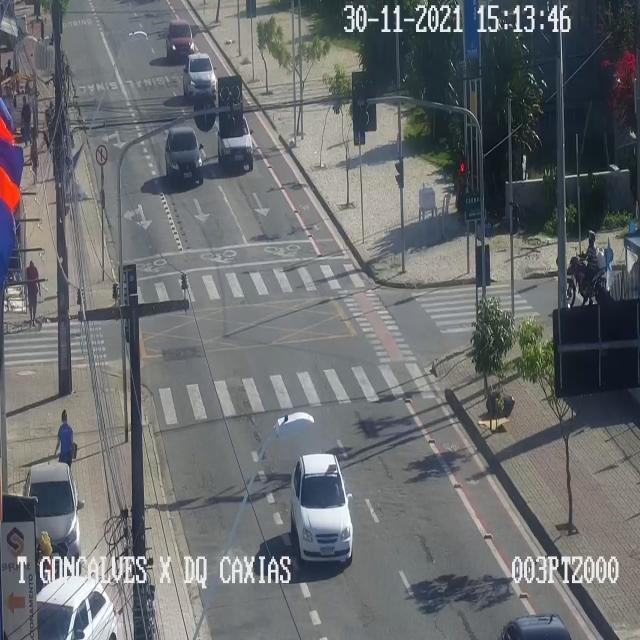Car: (290, 452, 352, 561), (24, 462, 80, 572), (36, 575, 116, 639), (165, 126, 202, 182), (217, 114, 253, 169), (183, 53, 215, 99), (166, 20, 194, 58)
Motorcycle: (566, 230, 608, 306)
